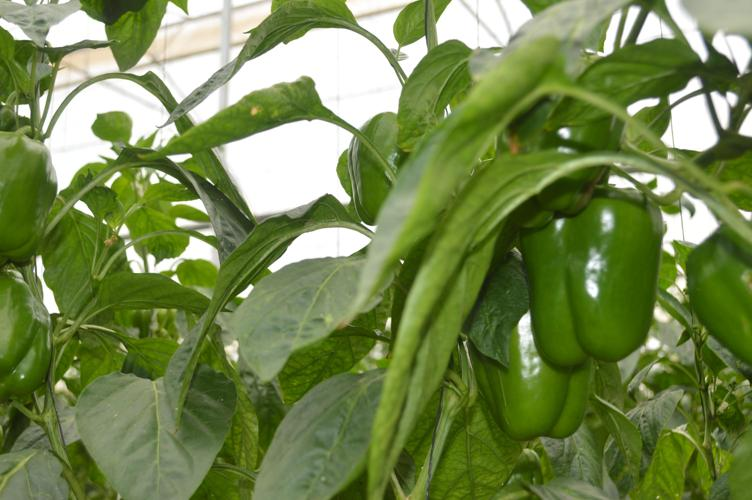BellPepper: (512, 189, 663, 365), (489, 81, 623, 222), (466, 304, 589, 442), (680, 229, 751, 367), (3, 268, 58, 403), (2, 135, 57, 264), (345, 113, 405, 224)
